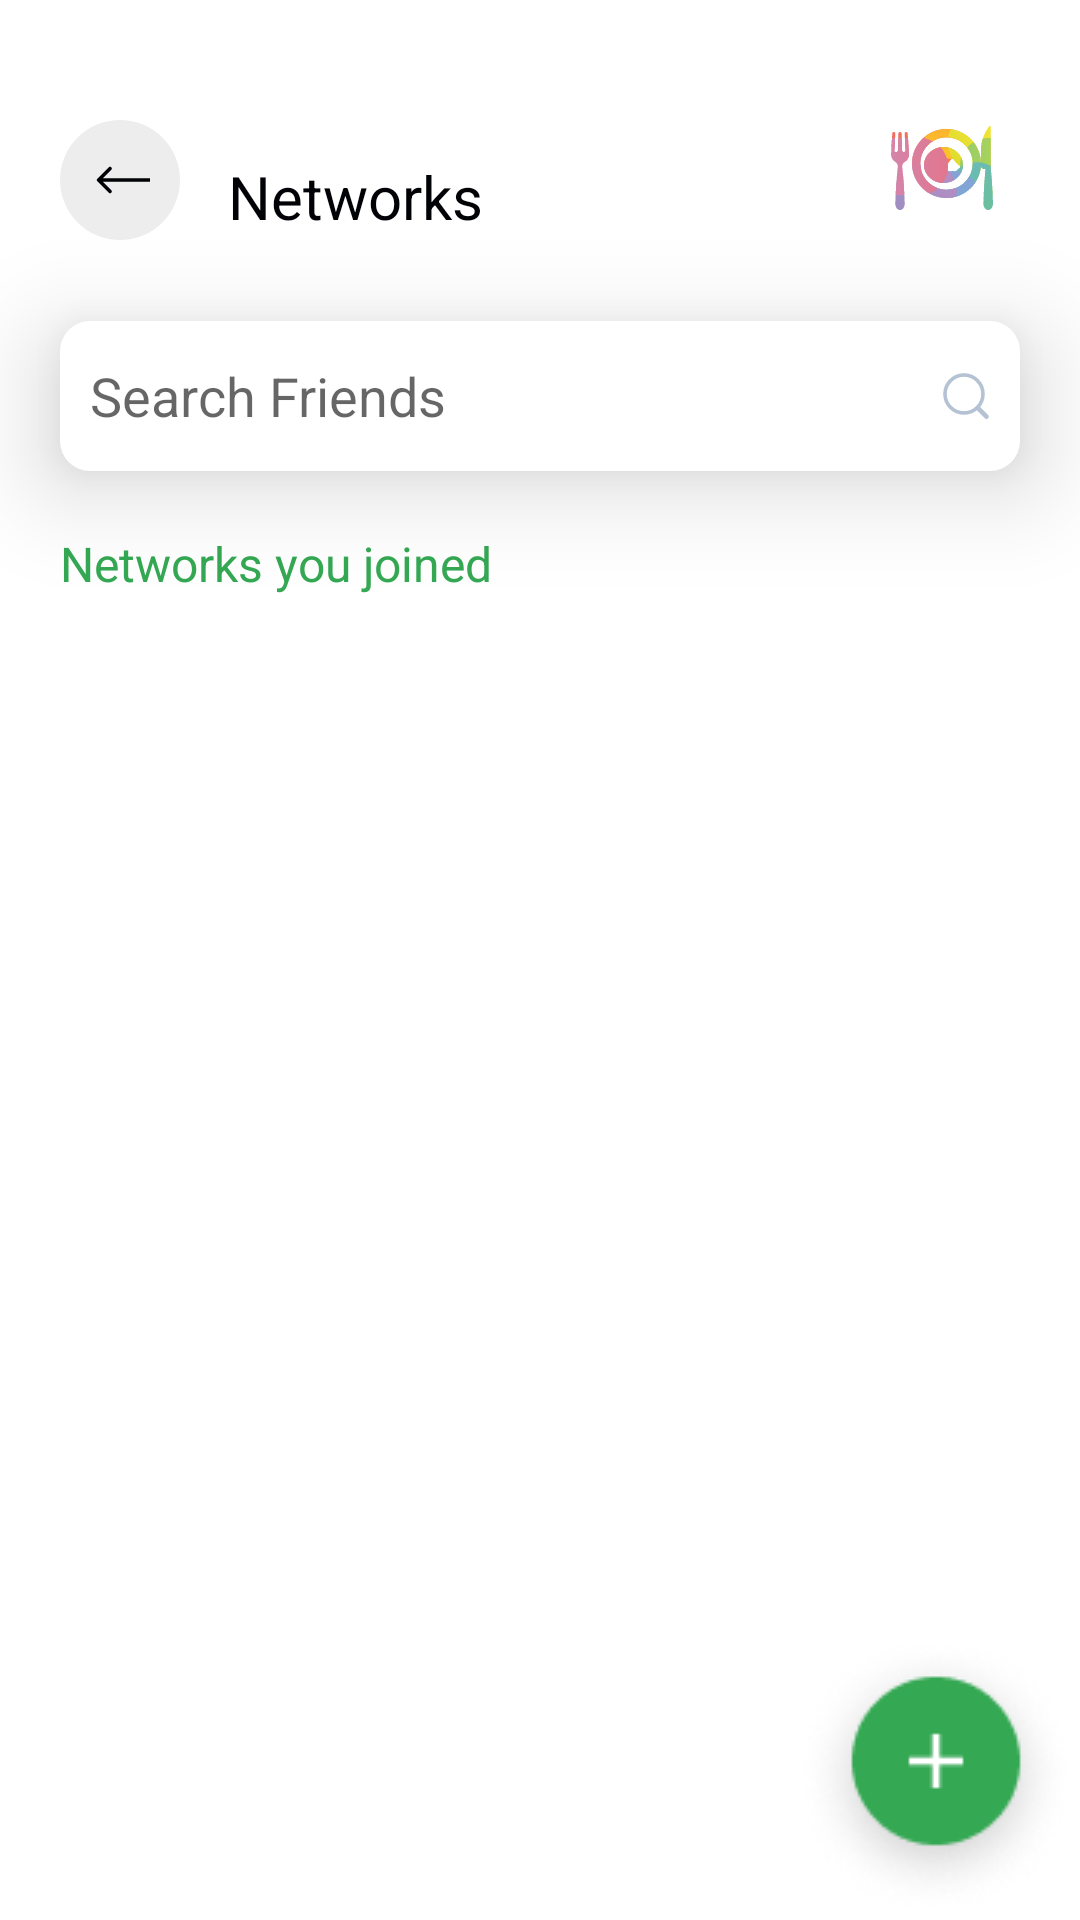

Icon click points for this 1080×1920 phone screenshot, format point (x, y):
back arrow: point (120, 180)
create: point (936, 1766)
